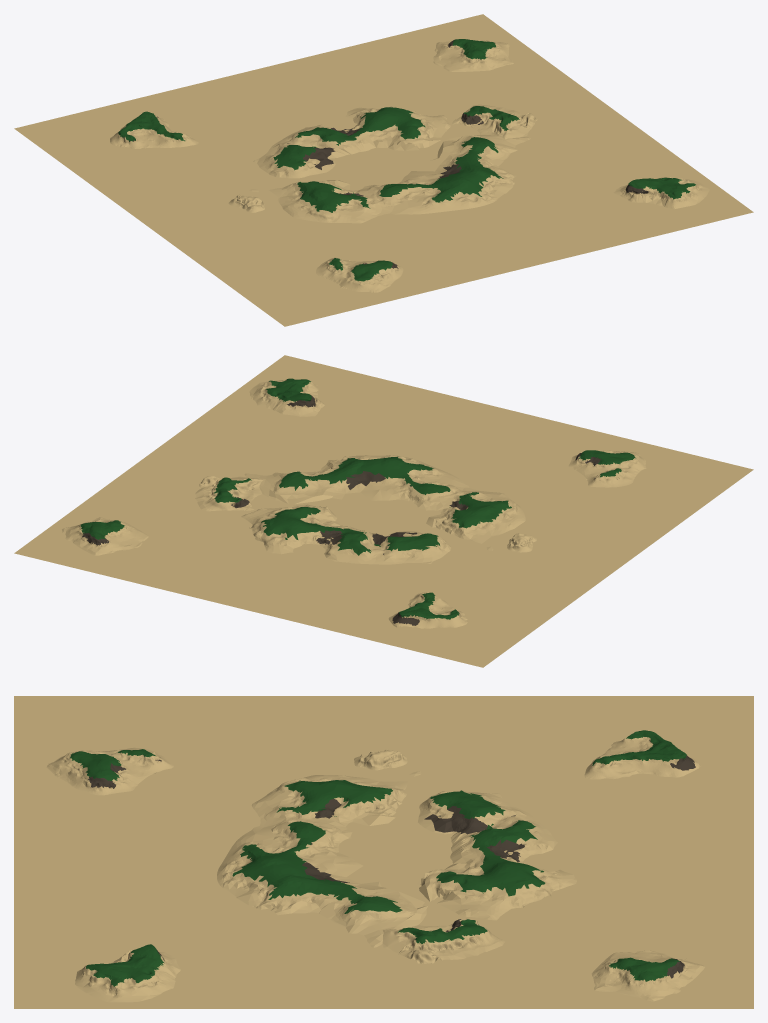
The model's file is Terrain (1).fbx.
3 renders of one model, top to bottom at view 1: azimuth 30°, elevation 25°; view 2: azimuth 150°, elevation 25°; view 3: azimuth 270°, elevation 25°, orthographic. The views are drawn at different scales.
Parts seen in each view (by area): view 1: Terrain; view 2: Terrain; view 3: Terrain.
Part boxes in pixels (x1=…): Terrain: x1=14, y1=14, x2=753, y2=326; Terrain: x1=14, y1=355, x2=753, y2=667; Terrain: x1=14, y1=696, x2=753, y2=1008.
Bounding box in the file's own units: 793 × 38.06 × 793.
